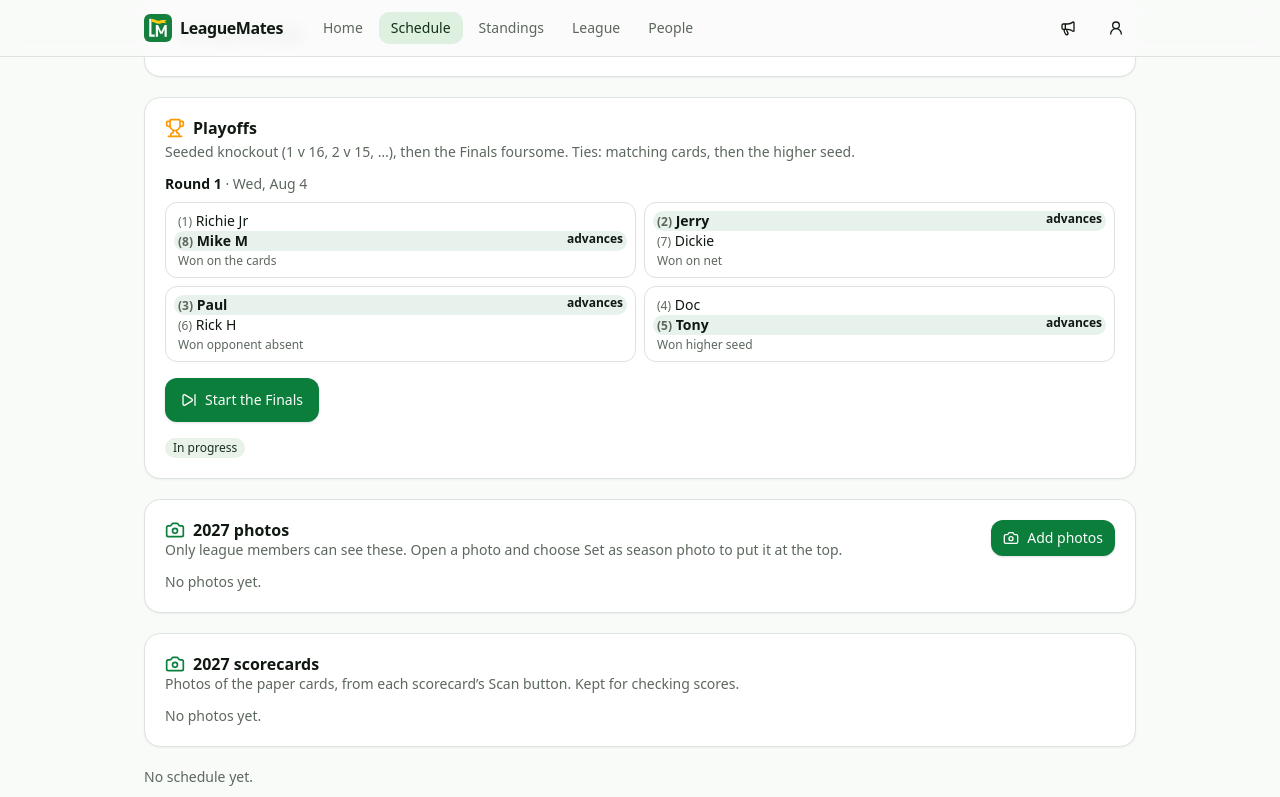
it: playoffs card › offers the Finals once every match is decided, and shows the champion
The width and height of the screenshot is (1280, 797).
(page scrolled)
Click the button "Start the Finals" at (242, 400), box [165,378,319,422]
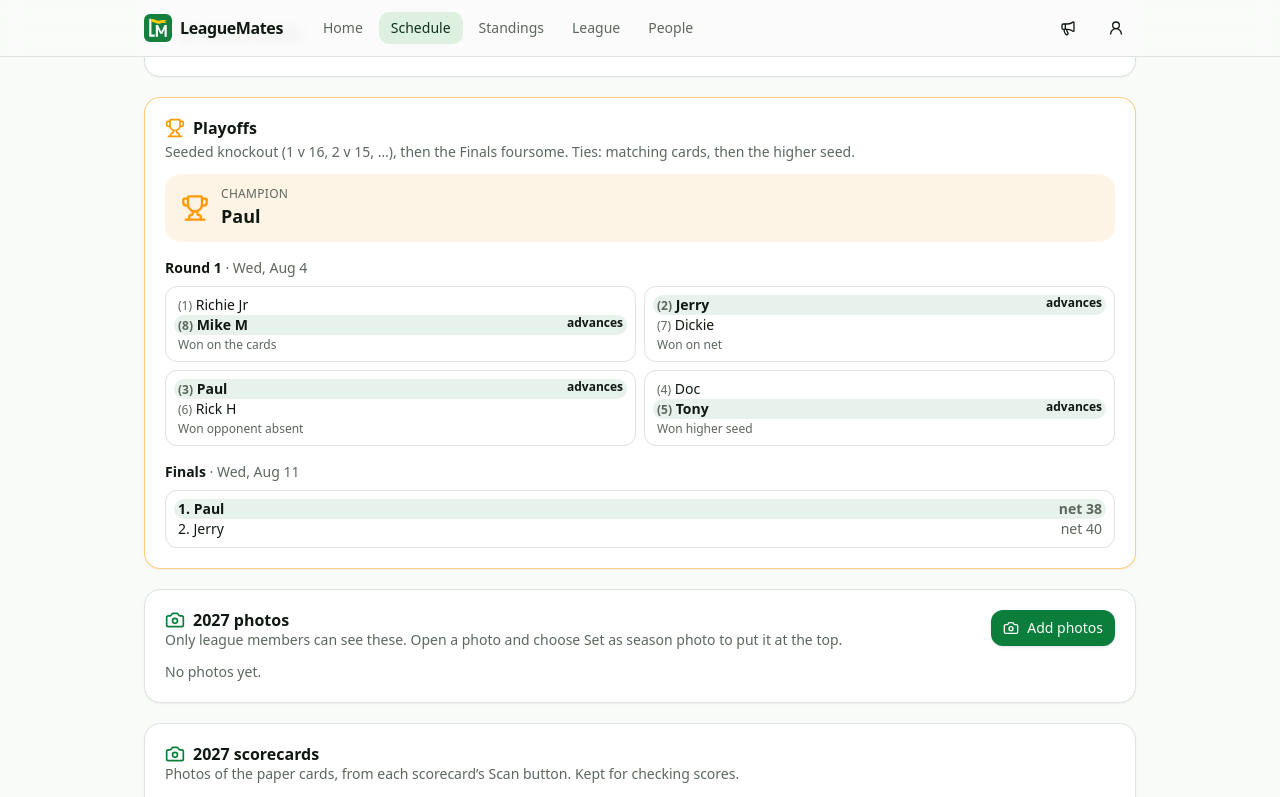
Check: the text "Champion" is shown, box [221,186,288,202]
Check: the link "Paul" is shown, box [221,204,260,228]
